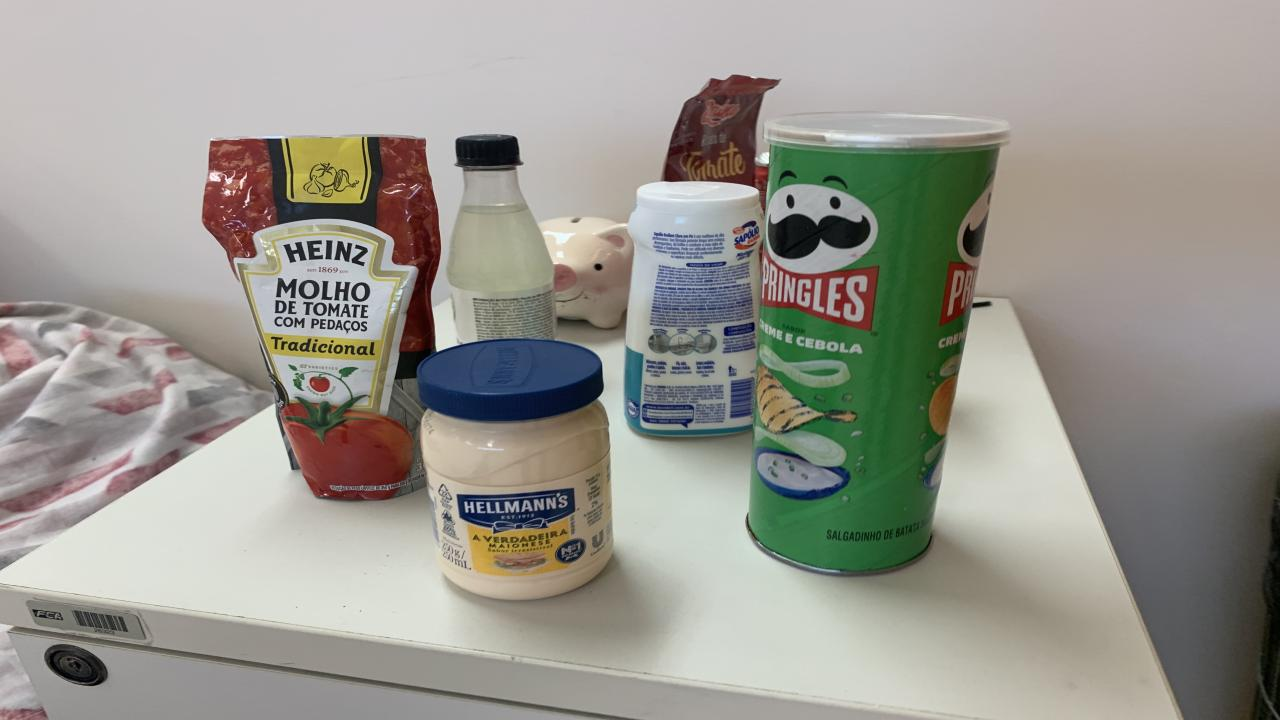Cleaner-Cleanup_Items: (622, 182, 760, 437)
Coke-Drinks: (755, 152, 770, 208)
Mayonnaise-Pantry_Items: (420, 338, 612, 600)
Pig_Safe-Miscellaneous: (540, 218, 632, 328)
Pringles-Snacks: (748, 112, 1010, 572)
Soda-Drinks: (448, 135, 555, 343)
Tomato_Sauce-Pantry_Items: (202, 135, 440, 499), (662, 75, 780, 186)
